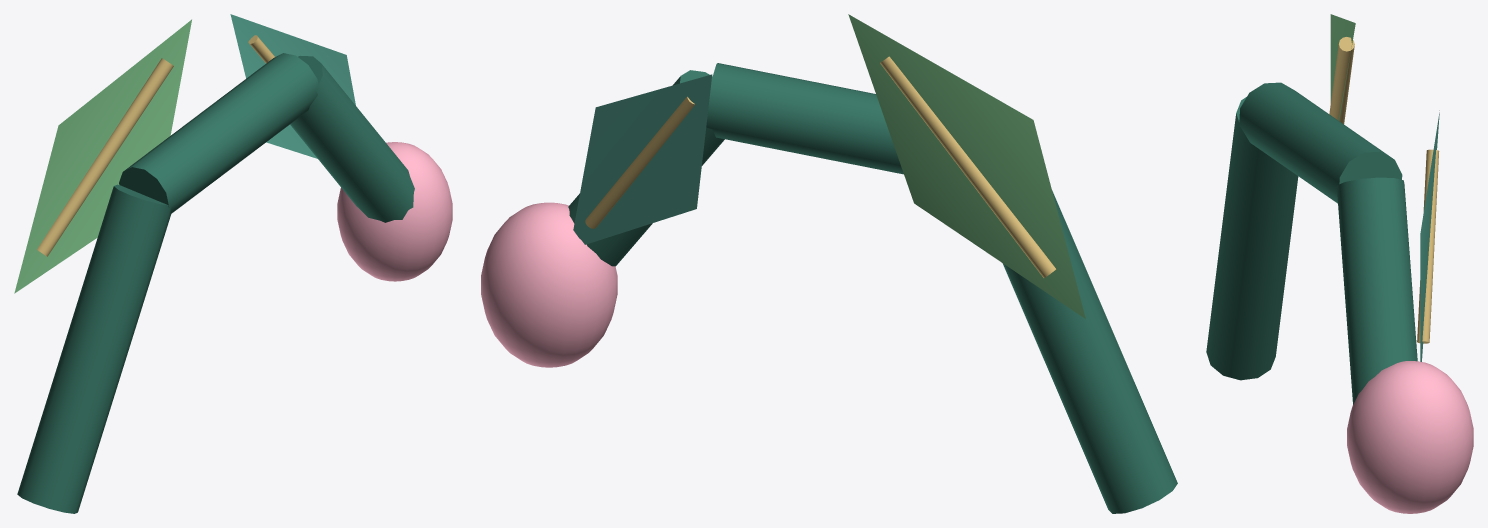
File: vines.glb
3 renders of one model, left to right at view 1: azimuth 30°, elevation 25°; view 2: azimuth 150°, elevation 25°; view 3: azimuth 270°, elevation 25°, orthographic. The views are drawn at different scales.
Visible parts, largest first — view 1: CurlingStem, EnamelLeaf, _MeshInstance3D_13, _MeshInstance3D_14, Bud, EnamelLeaf2, Vein; view 2: EnamelLeaf, CurlingStem, Bud, EnamelLeaf2, _MeshInstance3D_13, Vein, Vein2, _MeshInstance3D_14; view 3: CurlingStem, Bud, _MeshInstance3D_14, _MeshInstance3D_13, Vein2, EnamelLeaf2, Vein, EnamelLeaf.
Boxes of the visible parts, x1=… form: CurlingStem: x1=17, y1=184, x2=171, y2=513; EnamelLeaf: x1=14, y1=19, x2=191, y2=293; _MeshInstance3D_13: x1=119, y1=53, x2=318, y2=213; _MeshInstance3D_14: x1=290, y1=56, x2=414, y2=222; Bud: x1=337, y1=142, x2=452, y2=281; EnamelLeaf2: x1=230, y1=14, x2=355, y2=158; Vein: x1=37, y1=58, x2=173, y2=256; EnamelLeaf: x1=848, y1=14, x2=1085, y2=318; CurlingStem: x1=1002, y1=190, x2=1177, y2=513; Bud: x1=481, y1=202, x2=617, y2=367; EnamelLeaf2: x1=573, y1=74, x2=712, y2=244; _MeshInstance3D_13: x1=706, y1=63, x2=903, y2=174; Vein: x1=880, y1=56, x2=1055, y2=277; Vein2: x1=585, y1=96, x2=694, y2=228; _MeshInstance3D_14: x1=568, y1=70, x2=724, y2=266; CurlingStem: x1=1206, y1=97, x2=1298, y2=380; Bud: x1=1347, y1=361, x2=1473, y2=513; _MeshInstance3D_14: x1=1336, y1=177, x2=1417, y2=404; _MeshInstance3D_13: x1=1239, y1=82, x2=1402, y2=203; Vein2: x1=1417, y1=149, x2=1439, y2=343; EnamelLeaf2: x1=1420, y1=110, x2=1439, y2=361; Vein: x1=1329, y1=37, x2=1354, y2=123; EnamelLeaf: x1=1330, y1=14, x2=1355, y2=120.
Size of the model in its own units: 0.0636 by 0.0497 by 0.0268.
